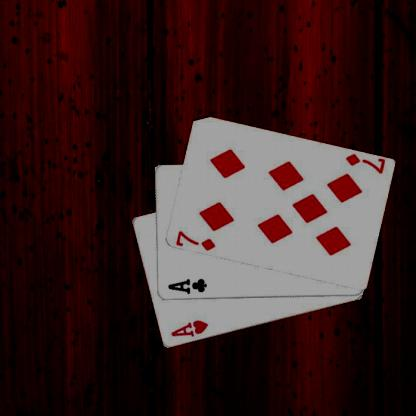7D: (342, 152, 386, 175), (174, 228, 216, 251)
AC: (166, 276, 207, 296)
AH: (168, 318, 209, 338)
